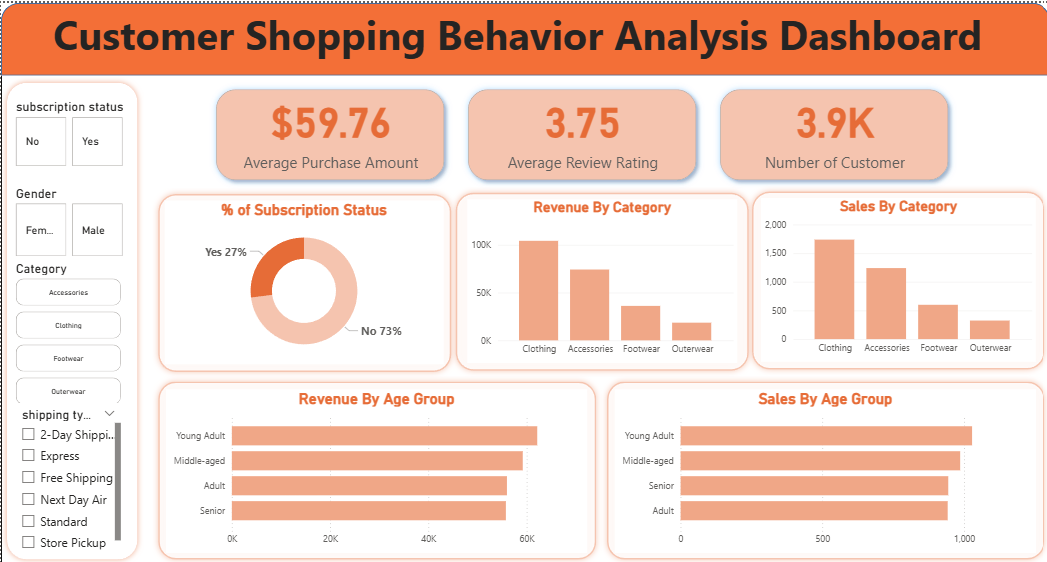

This screenshot's page, from the dashboard's own definition file:
{"tool":"powerbi","page":{"name":"Page 1","canvas":[1400,750],"ordinal":0},"visuals":[{"type":"shape","box":[201.7,496.7,600,253.3],"z":0},{"type":"cardVisual","fields":{"Data":["customer_behavior customer.Average Purchase Amount","customer_behavior customer.Average Review Rating","customer_behavior customer.Number of Customer"]},"box":[270,98.3,1010,155],"z":1000},{"type":"shape","box":[0,0,1400,96.7],"z":2000},{"type":"textbox","box":[0,0,1378.3,96.7],"z":3000},{"type":"shape","box":[201.7,246,406.7,253.3],"z":4000},{"type":"donutChart","title":"% of  Subscription Status","fields":{"Category":["customer_behavior customer.subscription_status"],"Y":["CountNonNull(customer_behavior customer.customer_id)"]},"box":[218.3,262.7,371.7,218.3],"z":5000},{"type":"shape","box":[598,245.3,406.7,253.3],"z":6000},{"type":"clusteredColumnChart","title":"Revenue By Category","fields":{"Y":["Sum(customer_behavior customer.purchase_amount)"],"Category":["customer_behavior customer.category"]},"box":[621.3,262,360,218.3],"z":7000},{"type":"shape","box":[993.3,242.7,406.7,253.3],"z":8000},{"type":"clusteredColumnChart","title":"Sales By Category","fields":{"Category":["customer_behavior customer.category"],"Y":["CountNonNull(customer_behavior customer.customer_id)"]},"box":[1013.3,259.3,366.7,218.3],"z":9000},{"type":"shape","box":[0,98.3,190,651.7],"z":10000},{"type":"advancedSlicerVisual","title":"subscription status","fields":{"Values":["customer_behavior customer.subscription_status"]},"box":[15,128.3,153.3,95],"z":11000},{"type":"advancedSlicerVisual","title":"Gender","fields":{"Values":["customer_behavior customer.gender"]},"box":[15,243.3,153.3,100],"z":12000},{"type":"advancedSlicerVisual","title":"Category","fields":{"Values":["customer_behavior customer.category"]},"box":[13.3,356.7,153.3,176.7],"z":13000},{"type":"slicer","fields":{"Values":["customer_behavior customer.shipping_type"]},"box":[13.3,533.3,150,200],"z":14000},{"type":"clusteredBarChart","title":"Revenue By Age Group","fields":{"Y":["Sum(customer_behavior customer.purchase_amount)"],"Category":["customer_behavior customer.age_group"]},"box":[220,515,561.7,218.3],"z":15000},{"type":"shape","box":[800,496.7,600,253.3],"z":15001},{"type":"clusteredBarChart","title":"Sales By Age Group","fields":{"Category":["customer_behavior customer.age_group"],"Y":["CountNonNull(customer_behavior customer.customer_id)"]},"box":[818.3,515,561.7,218.3],"z":15002}]}

Visuals, with their boxes in screenshot pixels (x1, y1, x2, y2), scaled from the page's 1400x750 canvas onto the 1047x562 screenshot:
shape: box=[151, 372, 600, 561]
cardVisual - customer_behavior customer.Average Purchase Amount x customer_behavior customer.Average Review Rating: box=[202, 74, 957, 190]
shape: box=[0, 0, 1046, 72]
textbox: box=[0, 0, 1031, 72]
shape: box=[151, 184, 455, 374]
"% of  Subscription Status" donutChart: box=[163, 197, 441, 360]
shape: box=[447, 184, 751, 374]
"Revenue By Category" clusteredColumnChart: box=[465, 196, 734, 360]
shape: box=[743, 182, 1046, 372]
"Sales By Category" clusteredColumnChart: box=[758, 194, 1032, 358]
shape: box=[0, 74, 142, 561]
"subscription status" advancedSlicerVisual: box=[11, 96, 126, 167]
"Gender" advancedSlicerVisual: box=[11, 182, 126, 257]
"Category" advancedSlicerVisual: box=[10, 267, 125, 400]
slicer - customer_behavior customer.shipping_type: box=[10, 400, 122, 549]
"Revenue By Age Group" clusteredBarChart: box=[165, 386, 585, 549]
shape: box=[598, 372, 1046, 561]
"Sales By Age Group" clusteredBarChart: box=[612, 386, 1032, 549]
